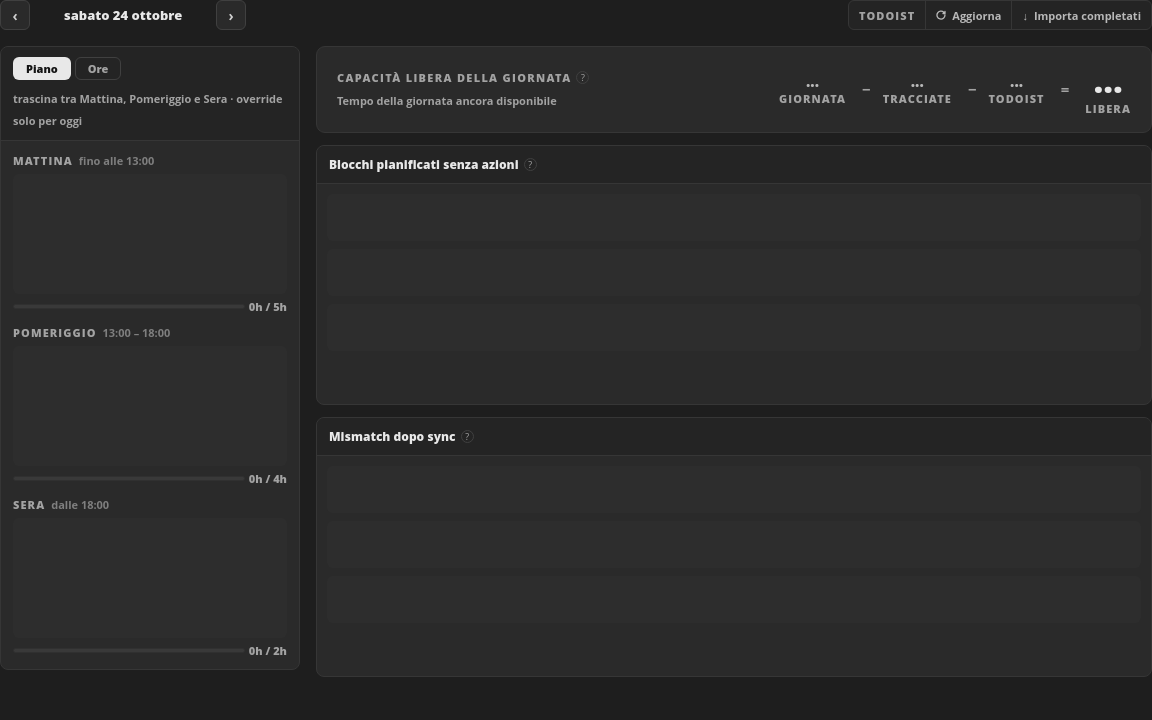
DayScreen / Ore per fascia › il + aggiunge una riga in una fascia nuova e salva lì le ore
This screenshot has width=1152, height=720.
Click the button "Ore" at {"x": 98, "y": 68}, box 75,57 -> 121,80
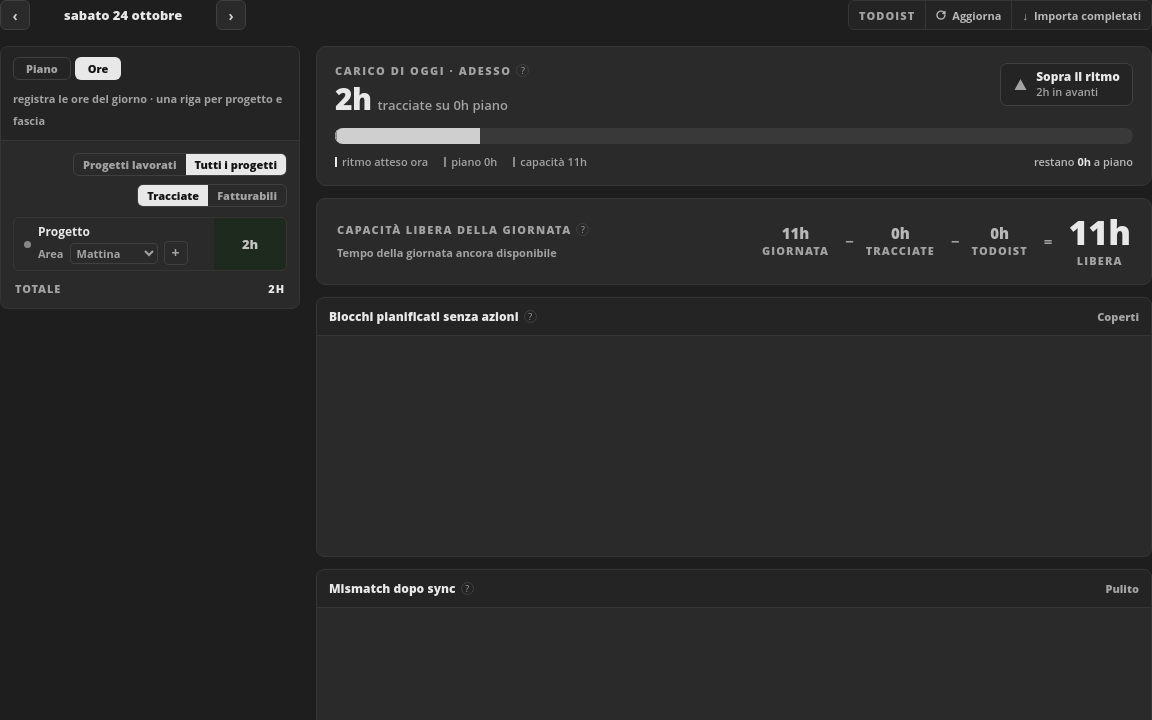
Select "Pomeriggio" in the dropdown named "Aggiungi ore di Progetto" at {"x": 176, "y": 253}, box 164,241 -> 188,265
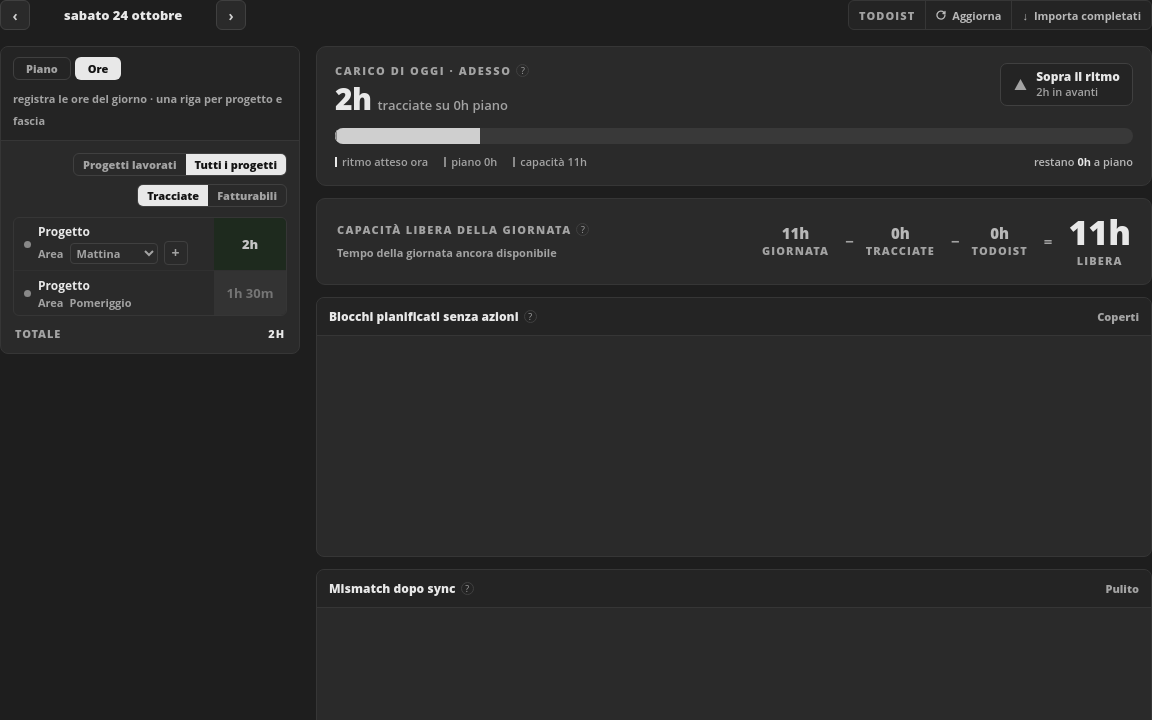
Check: the text "Pomeriggio" is shown, box 70,294 -> 132,310
Check: the field with placeholder "1h 30m" is shown, box 214,271 -> 286,315
